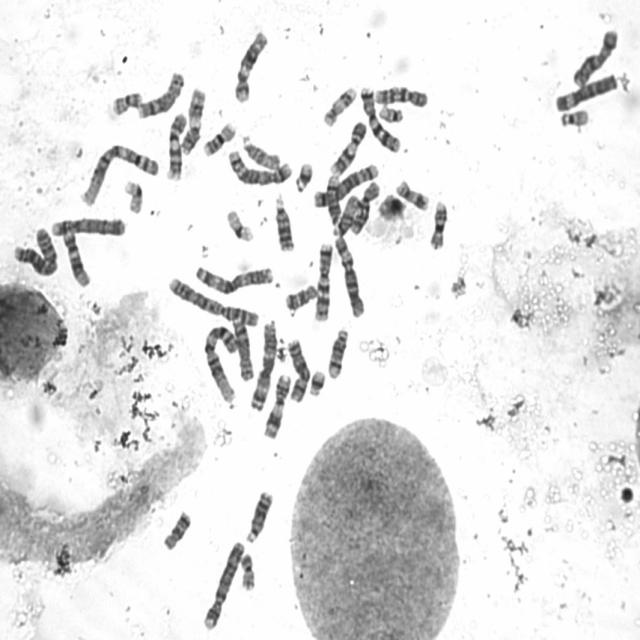A1: (78, 139, 161, 209), (200, 322, 240, 404)
A2: (165, 274, 261, 328), (11, 224, 59, 278)
A3: (247, 316, 278, 412), (192, 262, 274, 296)
B4: (199, 537, 247, 632), (48, 213, 126, 238)
B5: (311, 160, 381, 209), (225, 147, 293, 187)
C10: (347, 178, 381, 236), (371, 84, 429, 108)
C11: (260, 371, 294, 440), (178, 84, 208, 156)
C12: (232, 27, 270, 104), (62, 227, 92, 288)
C6: (552, 70, 618, 114), (334, 233, 366, 319)
C7: (358, 83, 402, 153), (312, 240, 334, 322)
C8: (134, 69, 186, 120), (230, 314, 254, 382)
C9: (327, 118, 368, 177), (164, 110, 188, 181)
D13: (242, 487, 274, 544), (272, 192, 296, 254)
D14: (324, 324, 350, 380), (323, 172, 342, 225)
D15: (240, 131, 281, 173), (330, 193, 361, 238)
E16: (199, 118, 237, 158), (427, 197, 448, 251)
E17: (320, 84, 358, 128), (394, 177, 430, 212)
E18: (160, 508, 192, 552), (282, 281, 318, 313)
F19: (224, 207, 256, 244), (121, 178, 145, 216)
F20: (108, 88, 144, 118), (238, 550, 256, 592)
G21: (293, 159, 314, 193), (306, 367, 327, 398)
G22: (558, 106, 590, 128), (376, 103, 404, 123)
X: (569, 24, 620, 90), (285, 336, 311, 405)
